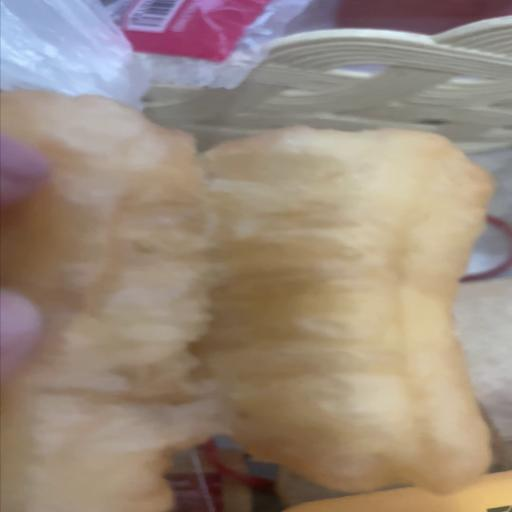street_golden_defect: (0, 124, 494, 508)
